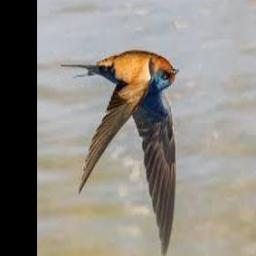Swallow: (61, 51, 180, 256)
